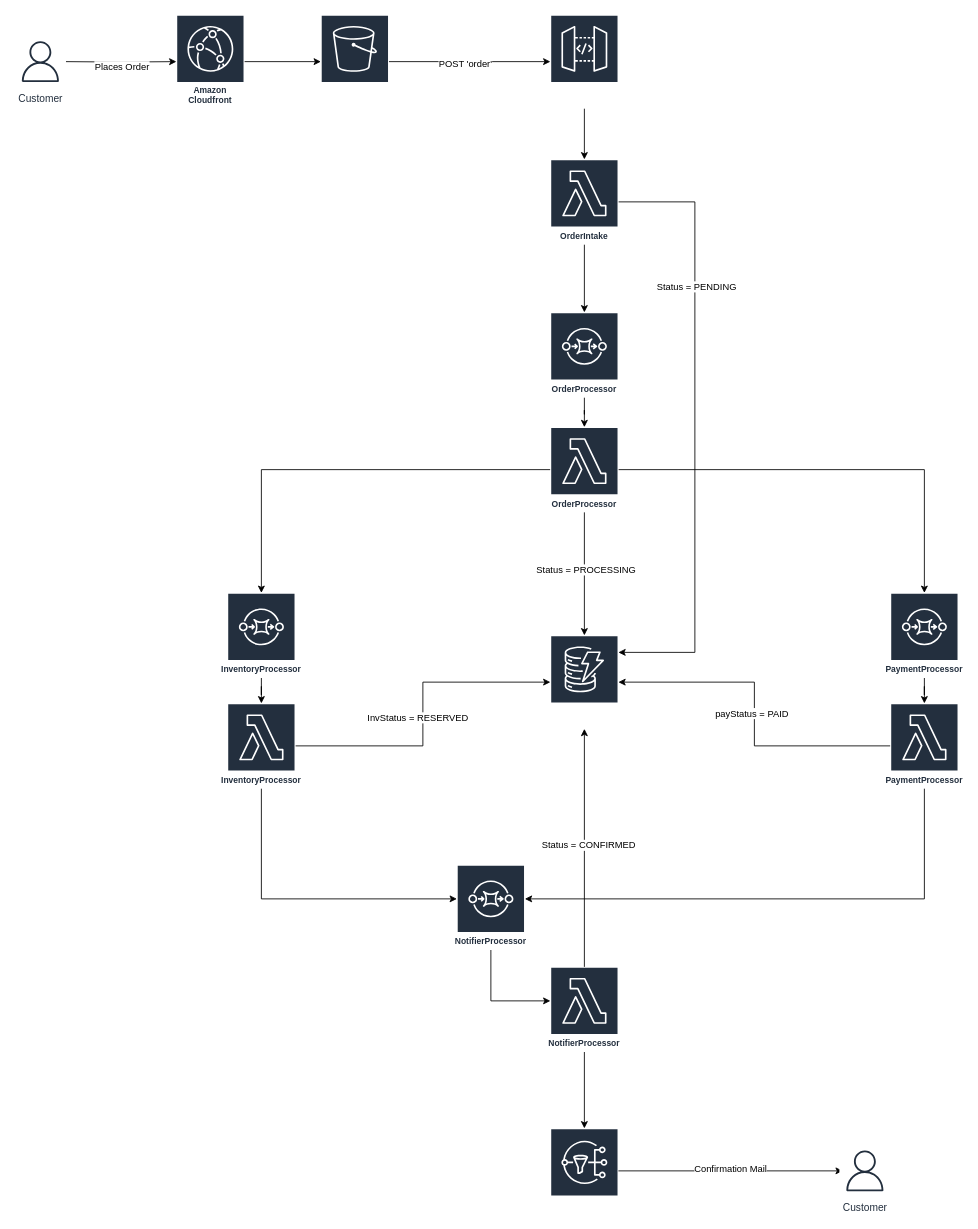
Some shapes in this 978 by 1229 pixel diagram are drawn without their labels. Here are the shapes that lost their labels. From the top down, the box of each, then its label:
(320, 14, 389, 108): Static HTML Webshop
(550, 14, 618, 108): Amazon API Gateway
(550, 635, 618, 729): Amazon DynamoDB
(550, 1128, 618, 1213): Amazon SNS
